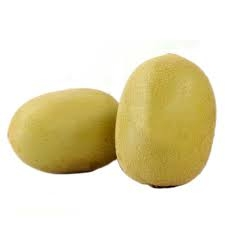kiwi: (115, 53, 216, 187), (7, 88, 119, 173)
